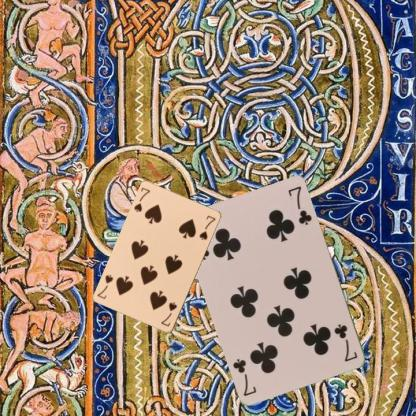7c: (332, 322, 359, 364)
7s: (158, 299, 178, 328), (132, 185, 152, 214)
